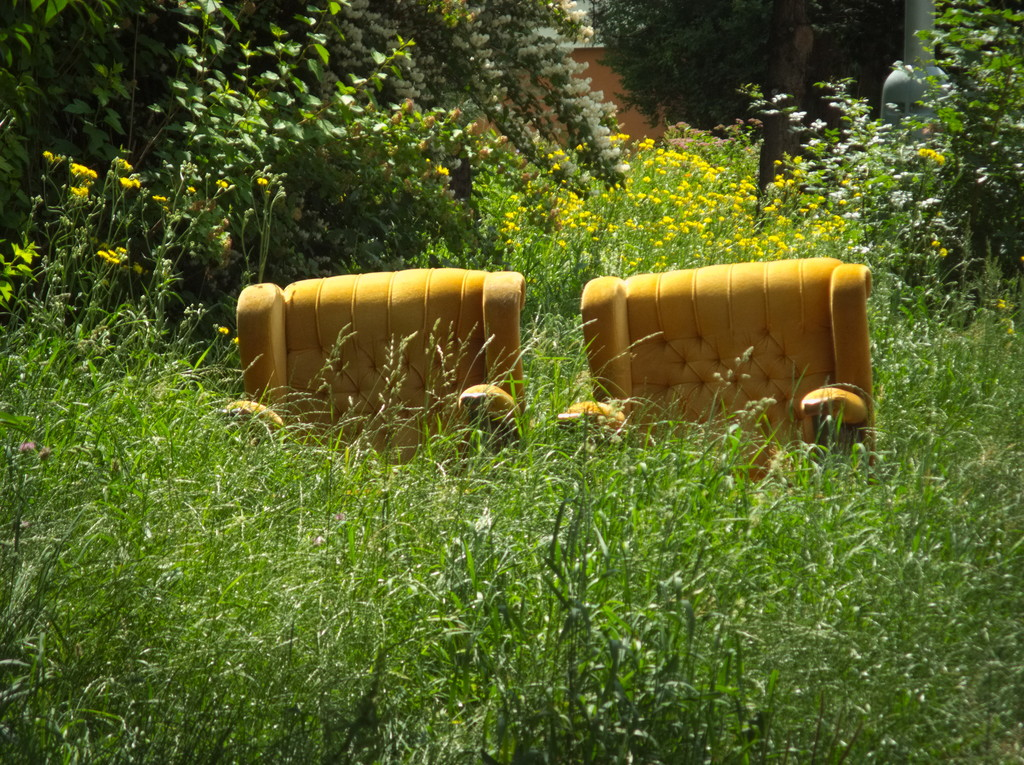Tree: (0, 0, 638, 292), (575, 0, 1024, 144)
